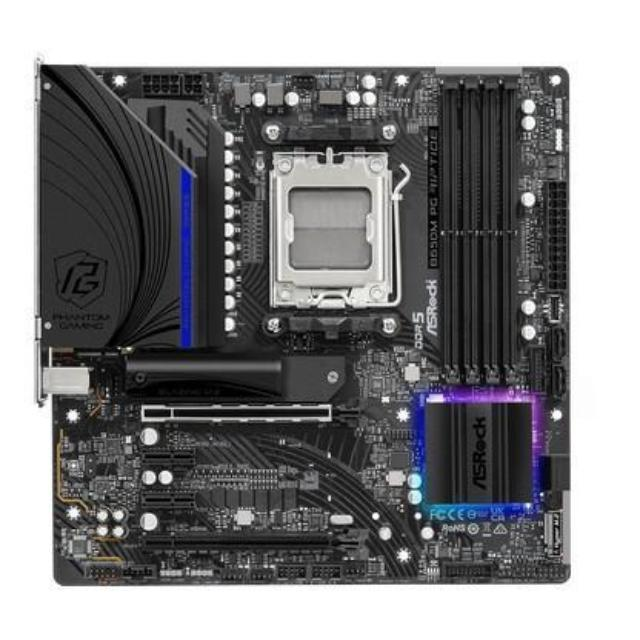Mainboard: (24, 49, 582, 596)
